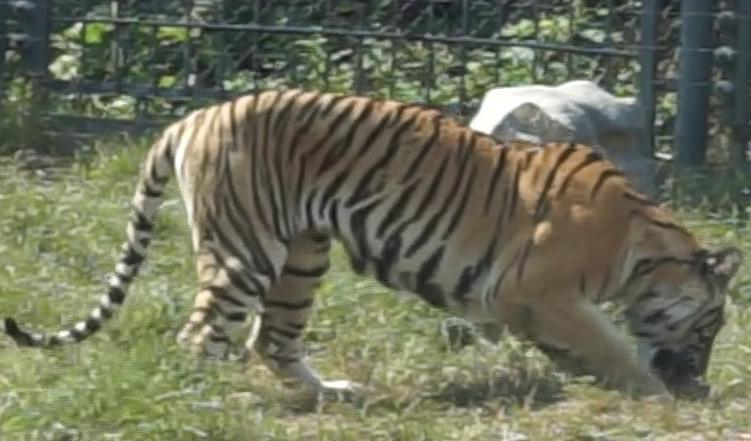tiger: (4, 90, 740, 398)
